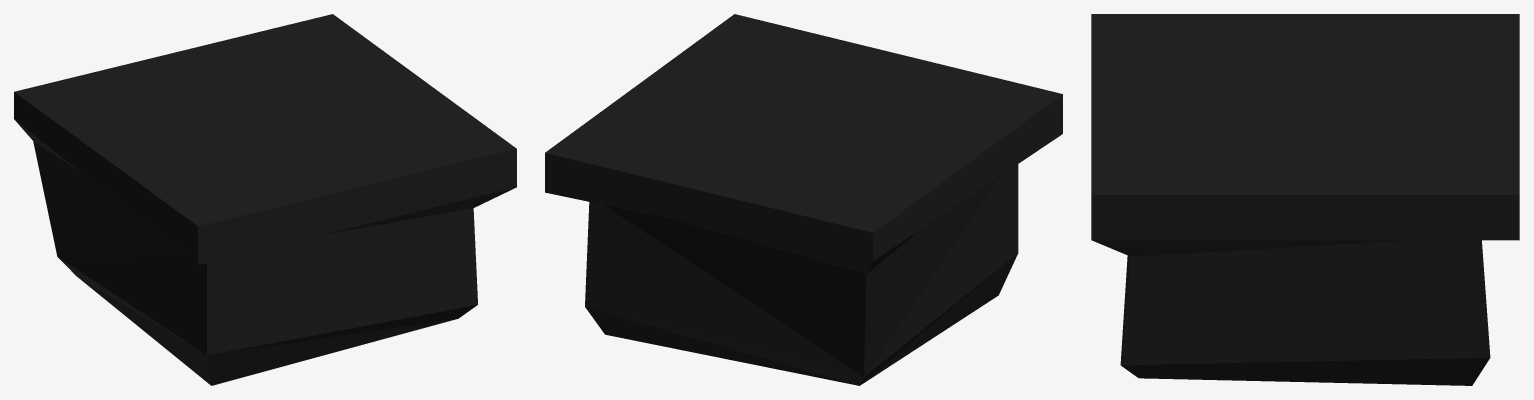
The model's file is Pillar_Top.fbx.
3 renders of one model, left to right at view 1: azimuth 30°, elevation 25°; view 2: azimuth 150°, elevation 25°; view 3: azimuth 270°, elevation 25°, orthographic. The views are drawn at different scales.
Parts seen in each view (by area): view 1: Pillar_Top; view 2: Pillar_Top; view 3: Pillar_Top.
Part boxes in pixels (x1,y1,x2,y2): Pillar_Top: (14,14,516,385); Pillar_Top: (545,14,1062,385); Pillar_Top: (1091,14,1519,385).
Bounding box in the file's own units: 200 × 112 × 200.
